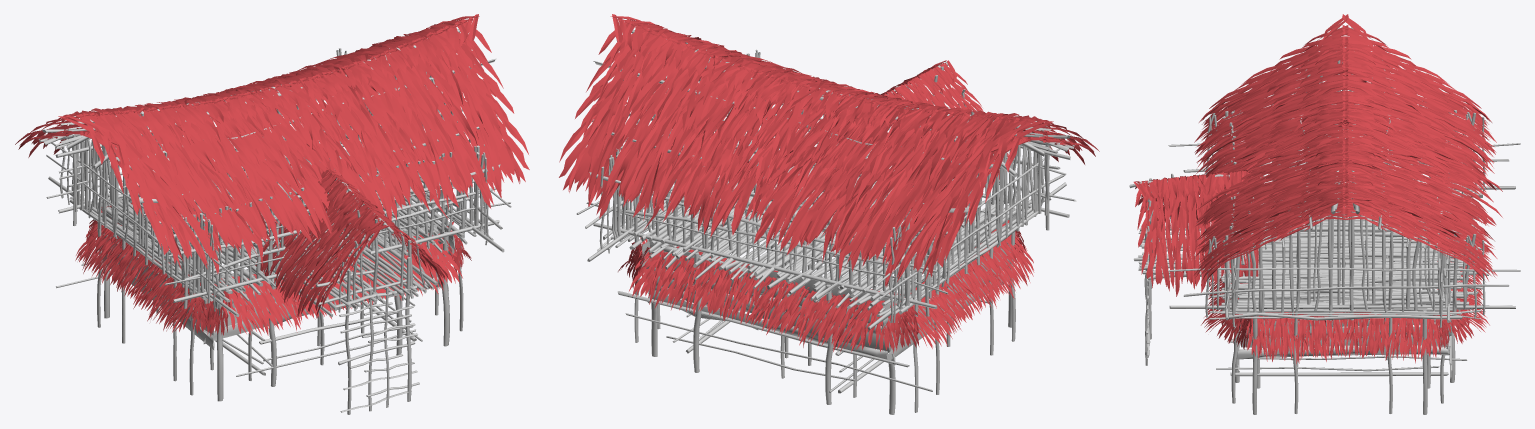
File: midpoly_Reed_Hut_01.fbx
The picture shows the model from 3 angles, left to right: view 1: azimuth 30°, elevation 25°; view 2: azimuth 150°, elevation 25°; view 3: azimuth 270°, elevation 25°; orthographic projection. The views are drawn at different scales.
Visible parts, largest first — view 1: roof_layer2.002, walls; view 2: roof_layer2.002, walls; view 3: roof_layer2.002, walls.
Boxes of the visible parts, x1=… form: roof_layer2.002: x1=15, y1=14, x2=529, y2=336; walls: x1=38, y1=29, x2=511, y2=414; roof_layer2.002: x1=559, y1=14, x2=1099, y2=353; walls: x1=576, y1=29, x2=1076, y2=414; roof_layer2.002: x1=1133, y1=14, x2=1502, y2=364; walls: x1=1129, y1=27, x2=1520, y2=414.
Size of the model in its own units: 6640 by 3986 by 5813.
